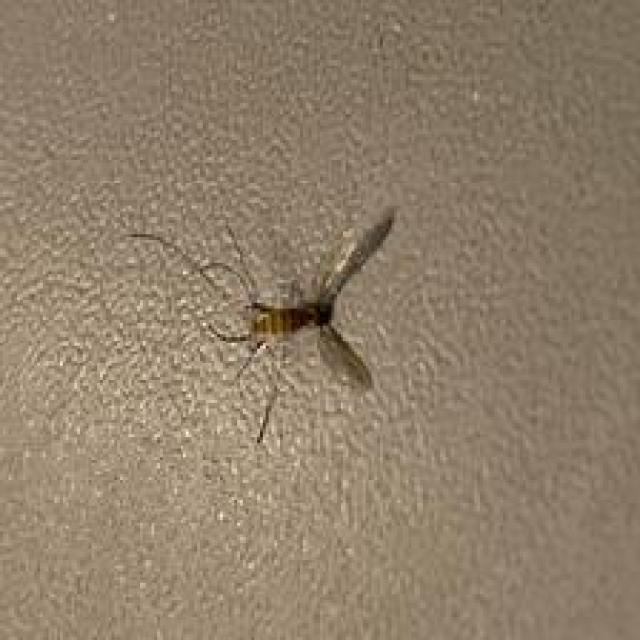Culex: (126, 204, 400, 447)
